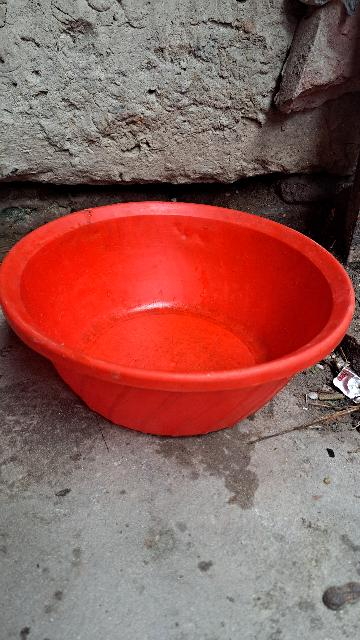hardplastic: (8, 201, 358, 436)
